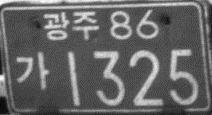1: (66, 48, 81, 107)
2: (129, 49, 165, 107)
3: (92, 49, 126, 107)
5: (168, 47, 200, 105)
6: (136, 8, 158, 39)
8: (109, 9, 132, 40)
가: (14, 50, 50, 91)
광주_O: (42, 9, 100, 41)
